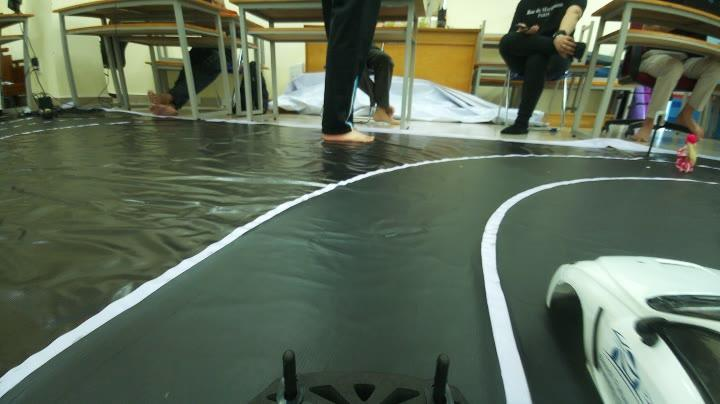car: (567, 242, 720, 404)
